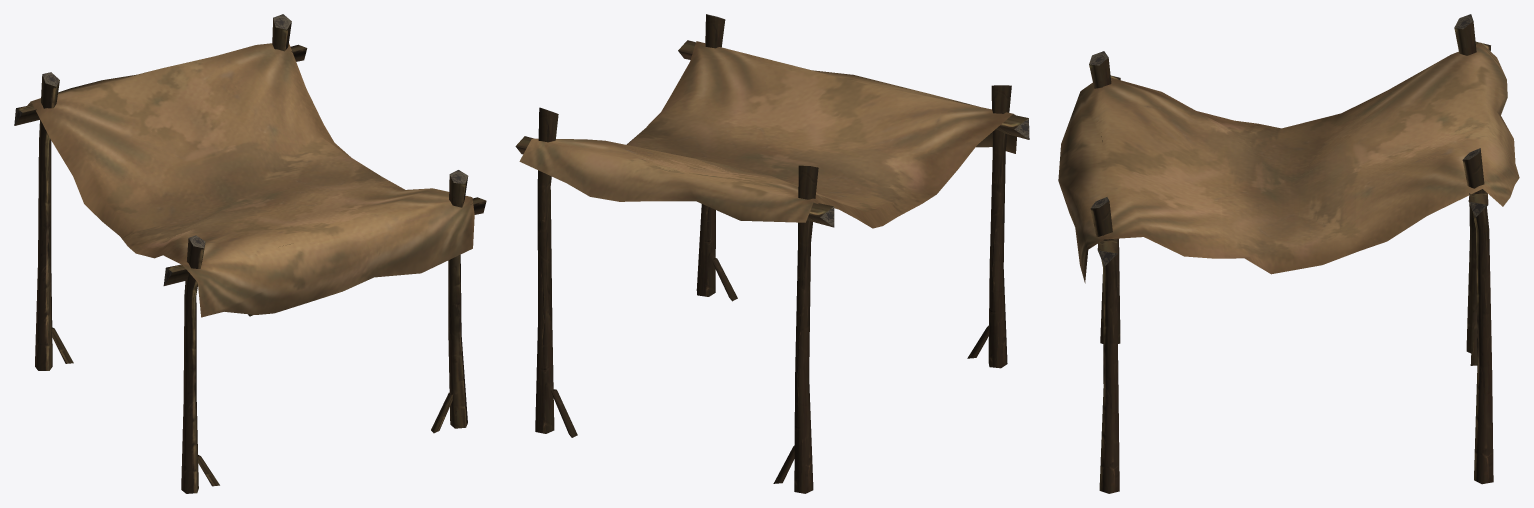
Rendered from Z_pengzi003.fbx.
3 views of the same model, side by side, from view 1: azimuth 30°, elevation 25°; view 2: azimuth 150°, elevation 25°; view 3: azimuth 270°, elevation 25° (orthographic). The views are drawn at different scales.
Visible parts, largest first — view 1: Z_pengzi003; view 2: Z_pengzi003; view 3: Z_pengzi003.
Part boxes in pixels (left/top/right/bottom): Z_pengzi003: left=14, top=14, right=486, bottom=493; Z_pengzi003: left=515, top=14, right=1029, bottom=493; Z_pengzi003: left=1058, top=14, right=1519, bottom=493.
Bounding box in the file's own units: 437 × 389 × 486.
